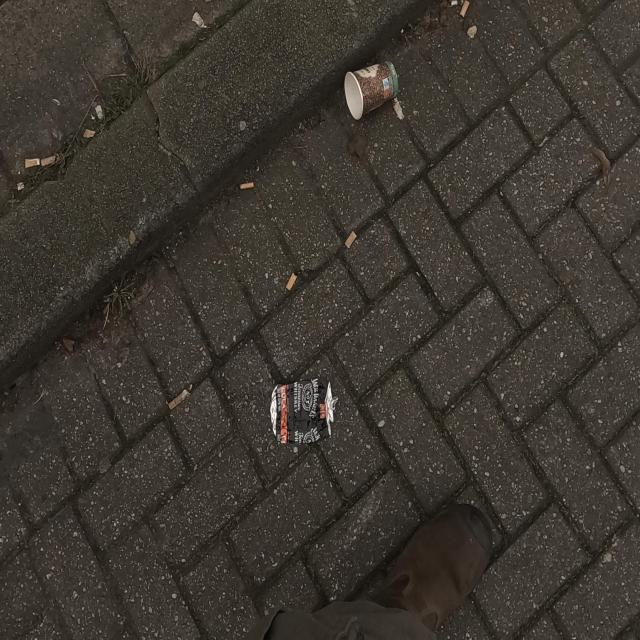Can-Metal: (270, 377, 340, 445)
Cup: (342, 58, 400, 122)
